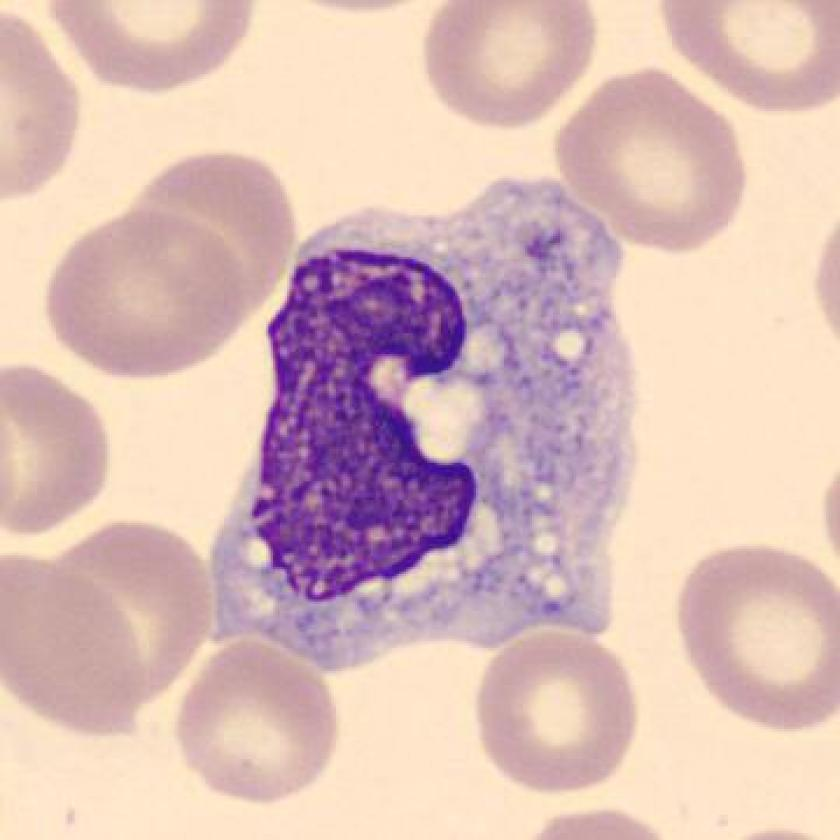monocyte: (192, 156, 664, 679)
